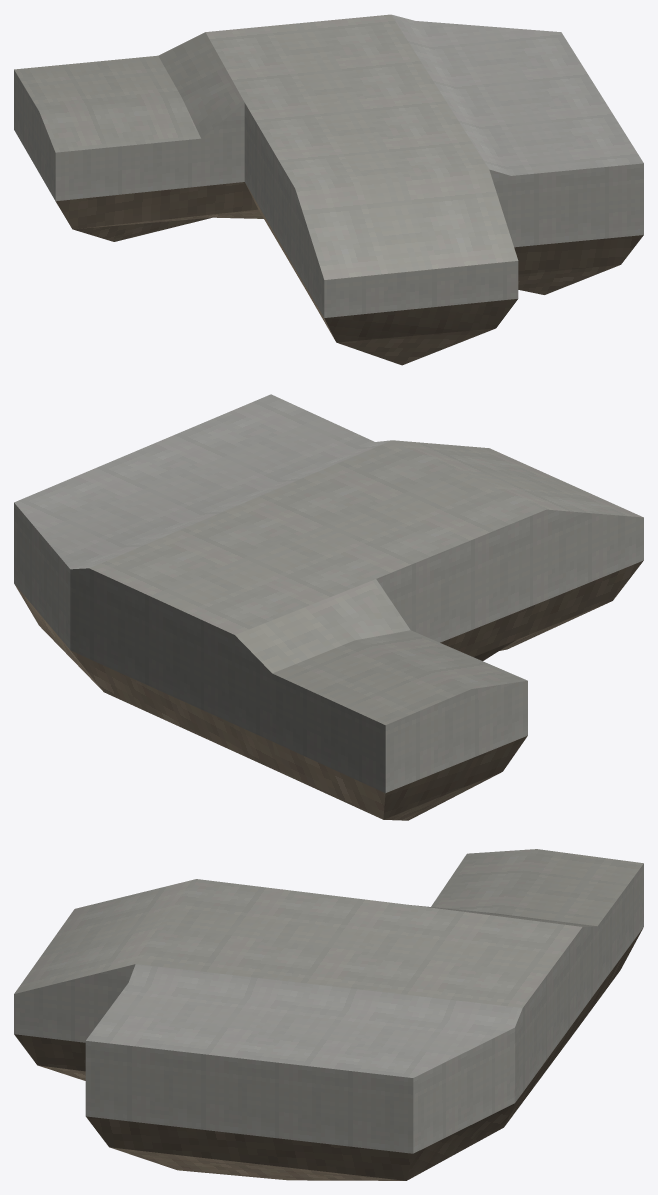
File: 05a1_New_Fishing_Port.glb
3 renders of one model, top to bottom at view 1: azimuth 30°, elevation 25°; view 2: azimuth 150°, elevation 25°; view 3: azimuth 270°, elevation 25°, orthographic. The views are drawn at different scales.
Parts seen in each view (by area): view 1: part_0; view 2: part_0; view 3: part_0.
Part boxes in pixels (<box>): part_0: <box>14,14,643,365</box>; part_0: <box>14,394,643,820</box>; part_0: <box>14,849,643,1180</box>.
Size of the model in its own units: 211 by 70.92 by 227.
Materials: 1 (1 with a texture image).
